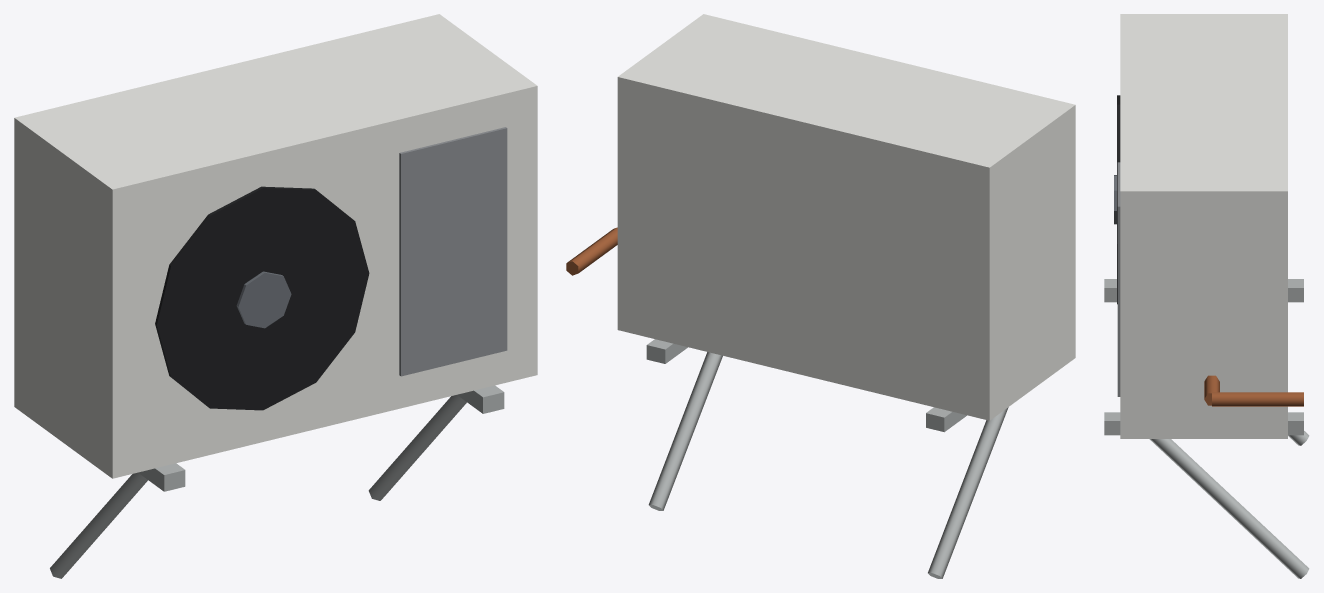
The model's file is ac_unit.glb.
The picture shows the model from 3 angles, left to right: view 1: azimuth 30°, elevation 25°; view 2: azimuth 150°, elevation 25°; view 3: azimuth 270°, elevation 25°; orthographic projection. The views are drawn at different scales.
Parts seen in each view (by area): view 1: ac_unit; view 2: ac_unit; view 3: ac_unit.
Part boxes in pixels (box(x1,y1,x2,y2)): ac_unit: box(14, 14, 537, 578); ac_unit: box(566, 14, 1075, 578); ac_unit: box(1104, 14, 1309, 578).
Bounding box in the file's own units: 0.893 × 0.8604 × 0.3908.
1 material, 1 textured.
